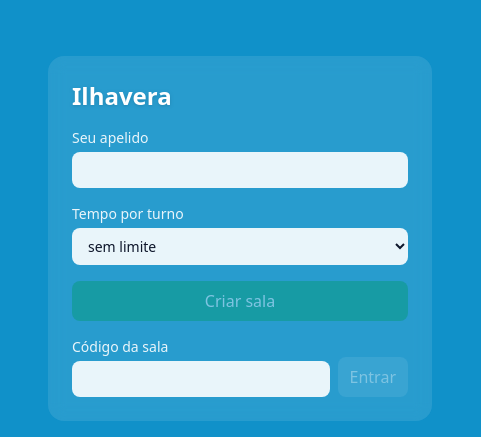
Scenario: tela de sala › as cores dos outros não são clicáveis, a minha fica marcada
(page scrolled)
Type "Ana" into the field with test id "apelido" at (240, 170), box 72,152 -> 408,188
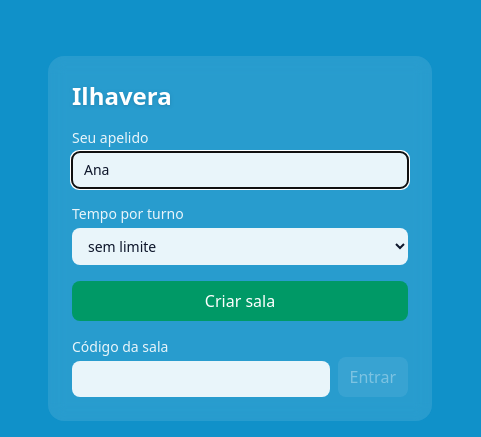
Click the button "Criar sala" at (240, 301), box 72,281 -> 408,321
(page scrolled)
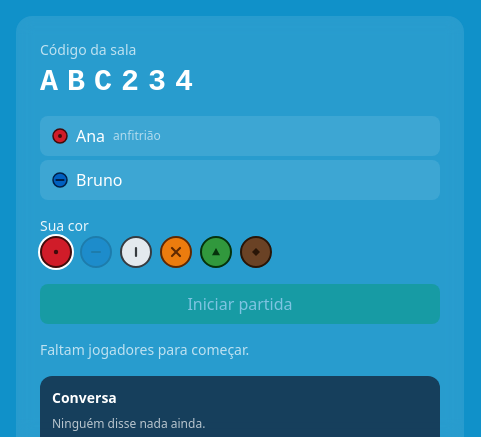
Expected: the text "ABC234" is shown, 40,65 -> 202,99
